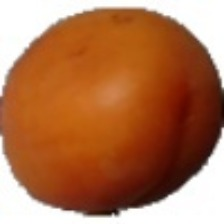apricot: (55, 30, 213, 204)
